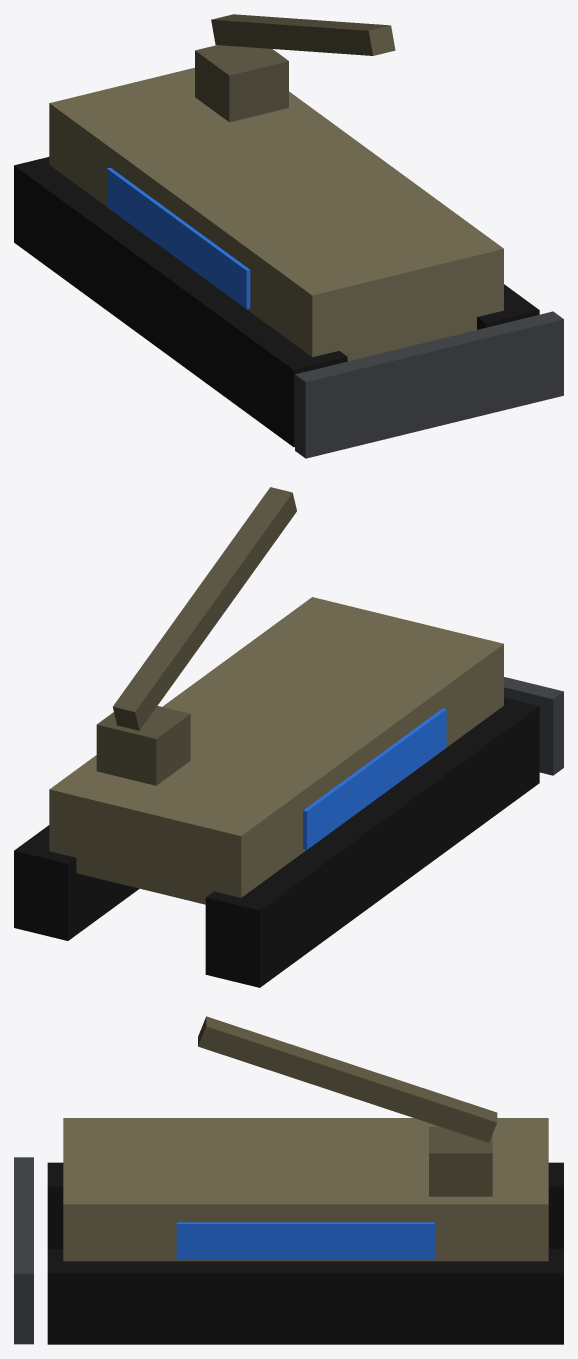
File: us_engineer.glb
The picture shows the model from 3 angles, top to bottom: view 1: azimuth 30°, elevation 25°; view 2: azimuth 150°, elevation 25°; view 3: azimuth 270°, elevation 25°; orthographic projection. The views are drawn at different scales.
Visible parts, largest first — view 1: hull, track_l, dozer_blade, team_panel_l, crane_base, crane_boom, track_r; view 2: hull, track_l, crane_boom, track_r, team_panel_l, crane_base, dozer_blade; view 3: hull, track_r, crane_boom, team_panel_r, crane_base, dozer_blade, track_l.
Boxes of the visible parts, x1,y1,x2,y2 form: hull: [49, 67, 503, 361]; track_l: [14, 157, 347, 447]; dozer_blade: [295, 311, 563, 458]; team_panel_l: [107, 167, 250, 309]; crane_base: [195, 45, 288, 122]; crane_boom: [211, 14, 395, 55]; track_r: [477, 284, 539, 329]; hull: [49, 597, 503, 904]; track_l: [205, 697, 539, 987]; crane_boom: [113, 487, 296, 730]; track_r: [14, 825, 139, 940]; team_panel_l: [303, 708, 446, 849]; crane_base: [96, 706, 190, 785]; dozer_blade: [504, 677, 563, 775]; hull: [63, 1118, 548, 1261]; track_r: [47, 1249, 563, 1344]; crane_boom: [198, 1016, 497, 1142]; team_panel_r: [176, 1222, 434, 1259]; crane_base: [429, 1126, 492, 1196]; dozer_blade: [14, 1157, 33, 1344]; track_l: [47, 1162, 563, 1248].
Size of the model in its own units: 3.46 by 4.03 by 6.92.
